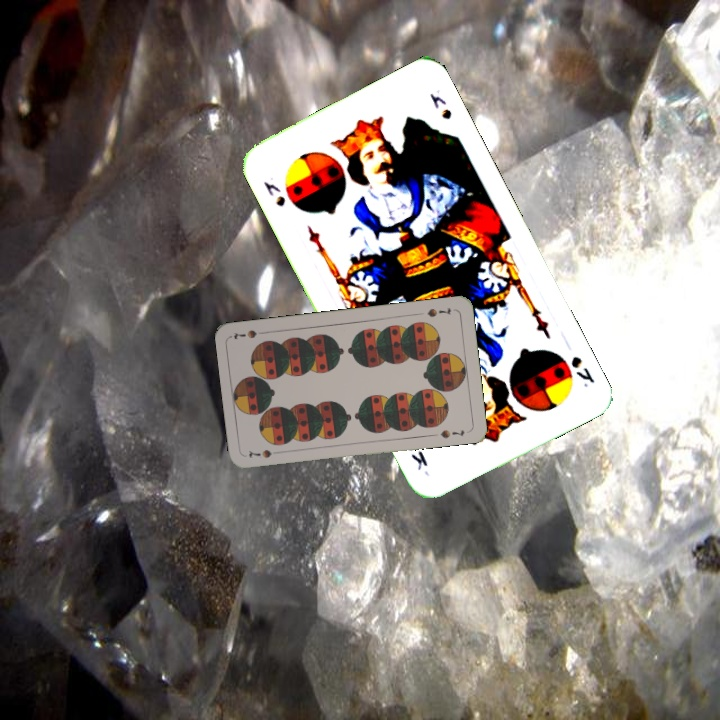S7: (244, 446, 284, 461), (423, 304, 454, 320)
SK: (567, 352, 598, 390), (259, 177, 288, 210)
